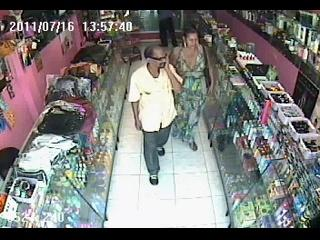Normal: (128, 44, 184, 186), (170, 28, 218, 151)
